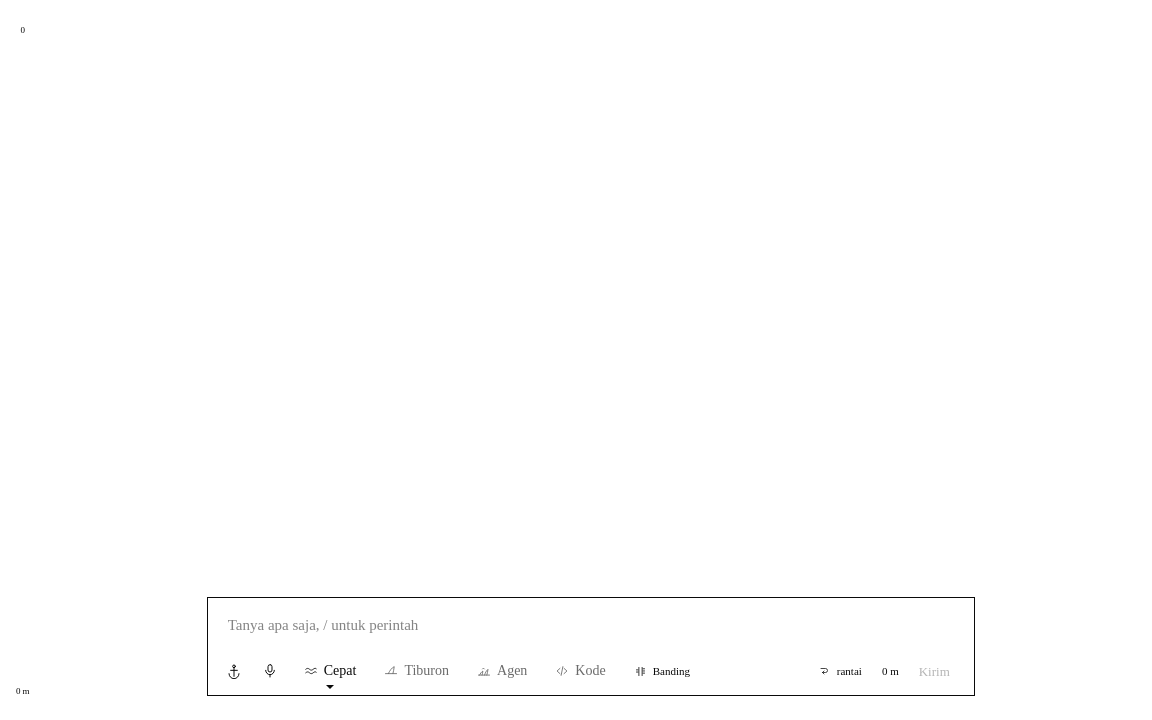
Test: penyimpanan yang gagal harus terlihat › PUT melempar → tetap dilaporkan, bukan ditelan diam-diam
Type "halo" into the text box. click: {"x": 591, "y": 625}
box: [216, 606, 966, 644]
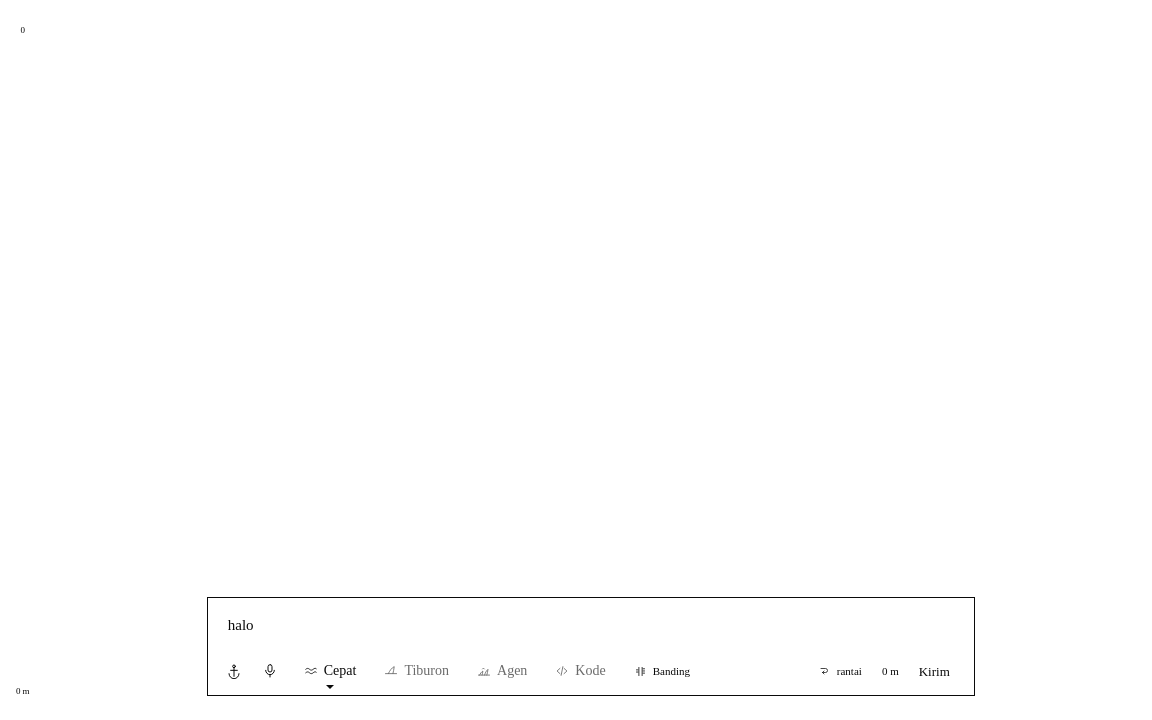
Click the button with aria-label "kirim pesan". click: {"x": 934, "y": 671}
box: [907, 656, 962, 687]
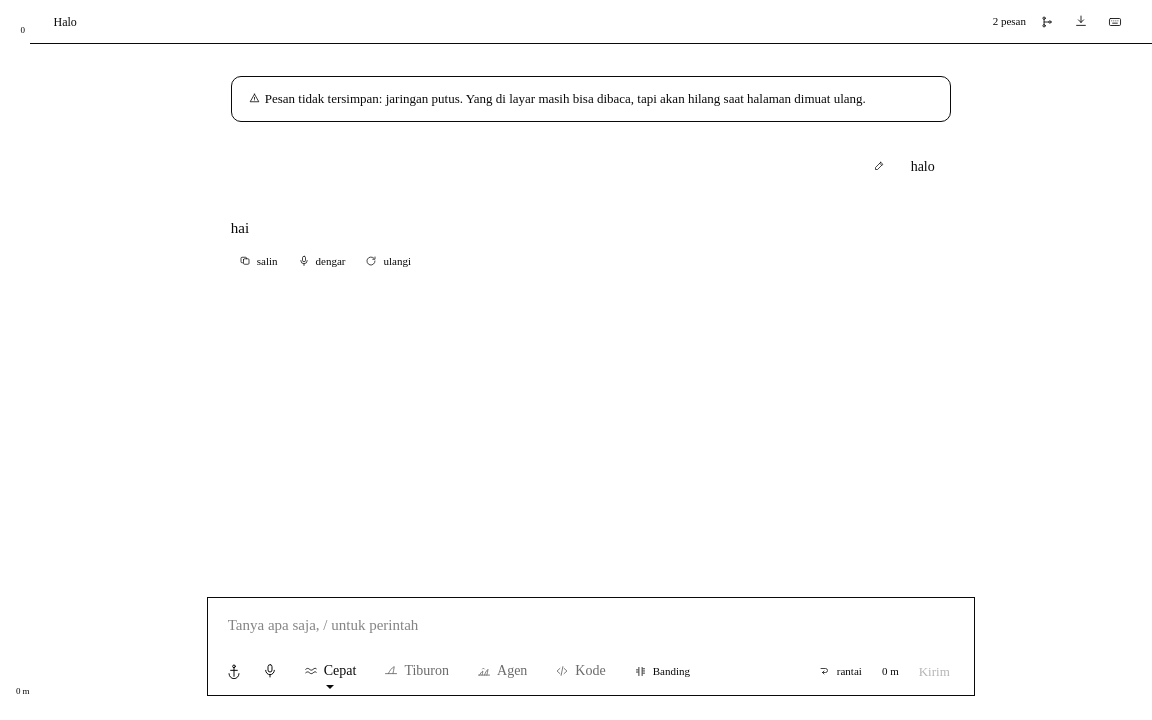
expect the text "tidak tersimpan" shows "jaringan putus": met, box [265, 91, 866, 106]
